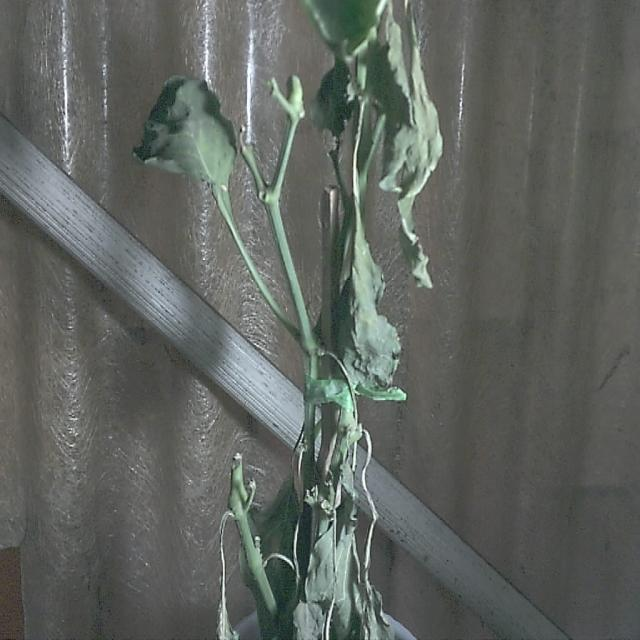Leaf: (133, 74, 240, 191), (338, 222, 400, 392)
